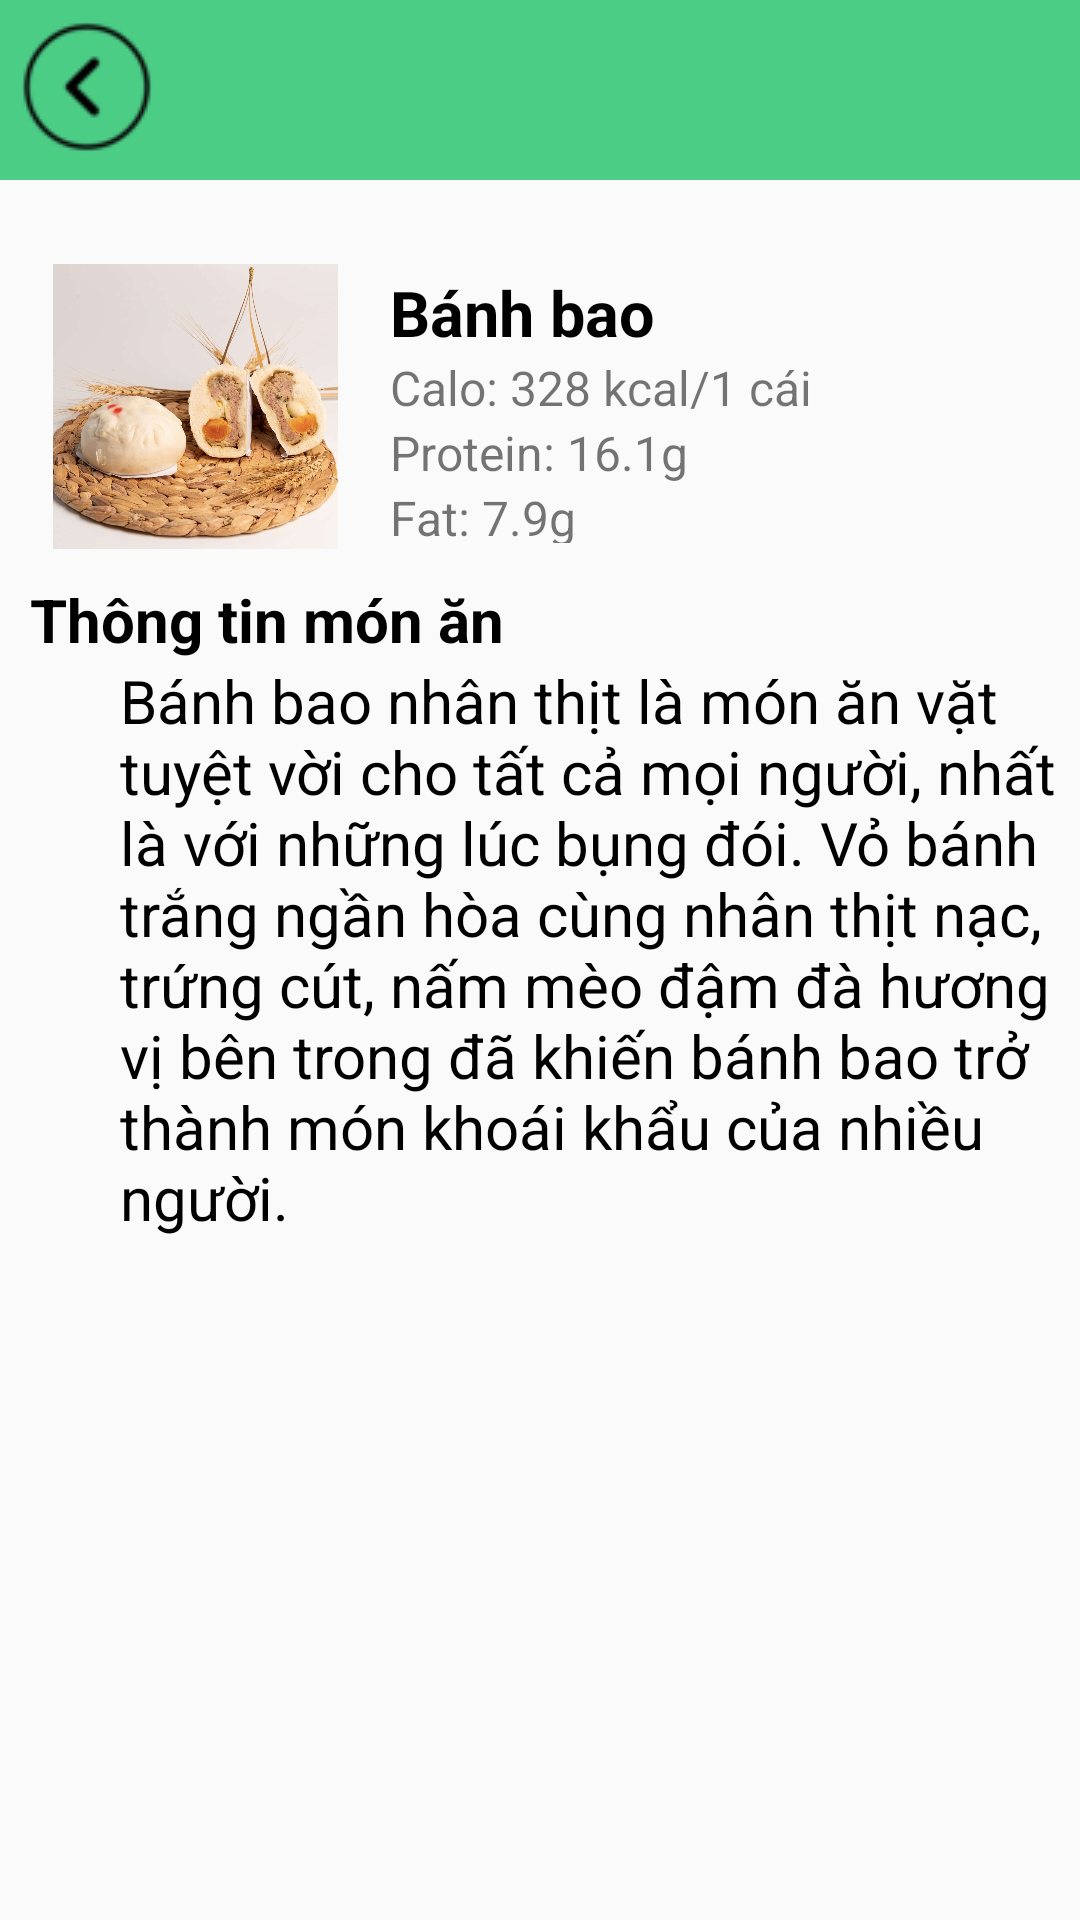

Where icons sit on this 1080w x 1920h app screen, as (x1, y1, x2, y2):
back: (23, 23, 151, 151)
